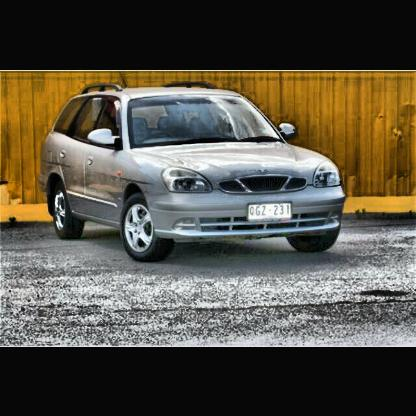Daewoo Nubira Wagon 2002: (40, 81, 347, 264)
